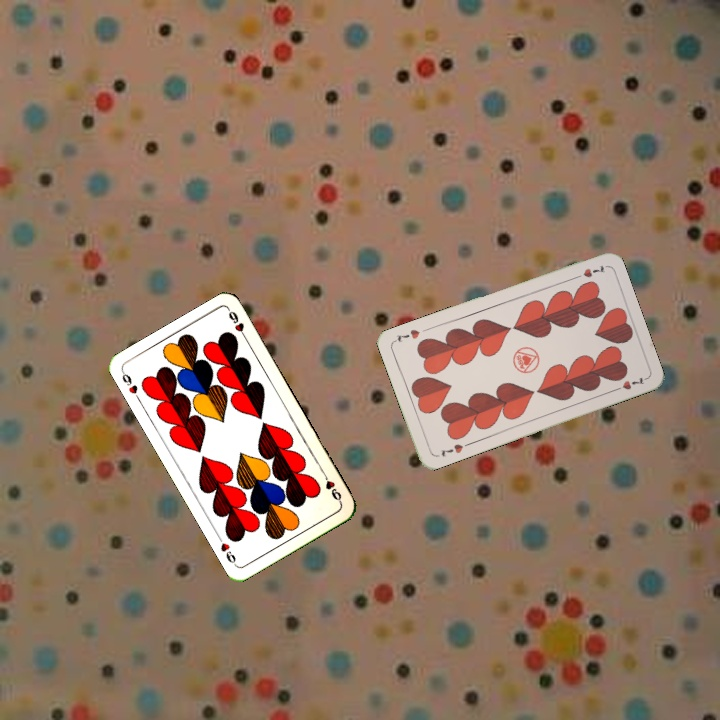H7: (569, 261, 608, 282), (437, 440, 466, 459)
H9: (319, 469, 344, 506), (118, 367, 140, 397)
